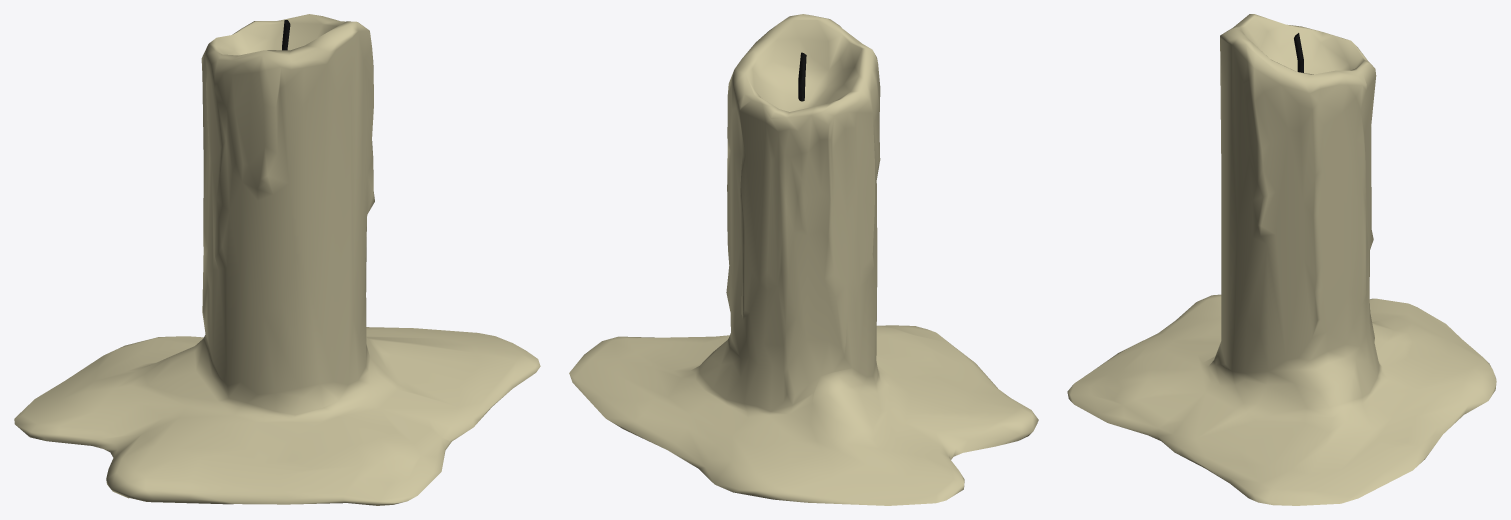
The model's file is SM_Candle_Used_B.glb.
3 views of the same model, side by side, from view 1: azimuth 30°, elevation 25°; view 2: azimuth 150°, elevation 25°; view 3: azimuth 270°, elevation 25° (orthographic). The views are drawn at different scales.
Visible parts, largest first — view 1: SM_Candle_Used_B; view 2: SM_Candle_Used_B; view 3: SM_Candle_Used_B.
Part boxes in pixels (x1,y1,x2,y2): SM_Candle_Used_B: (14, 14, 540, 505); SM_Candle_Used_B: (569, 14, 1038, 505); SM_Candle_Used_B: (1067, 14, 1496, 505).
Bounding box in the file's own units: 0.1048 × 0.0894 × 0.0914.
Materials: 1 (1 with a texture image).
